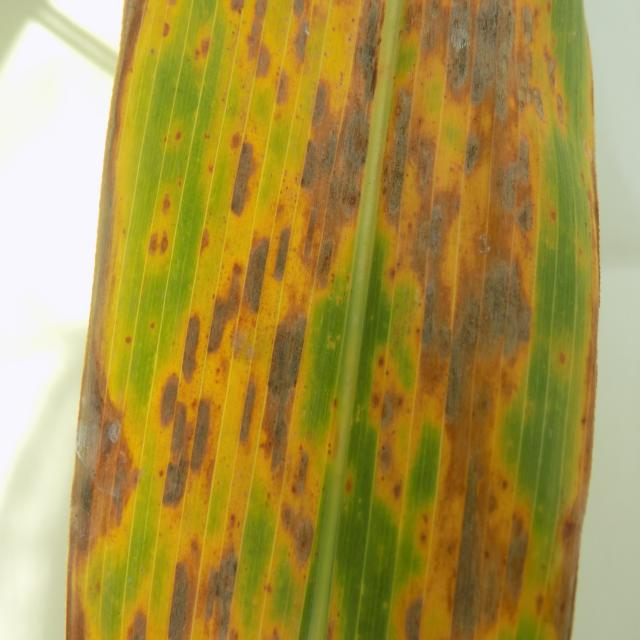millet_rust: (66, 0, 595, 636)
